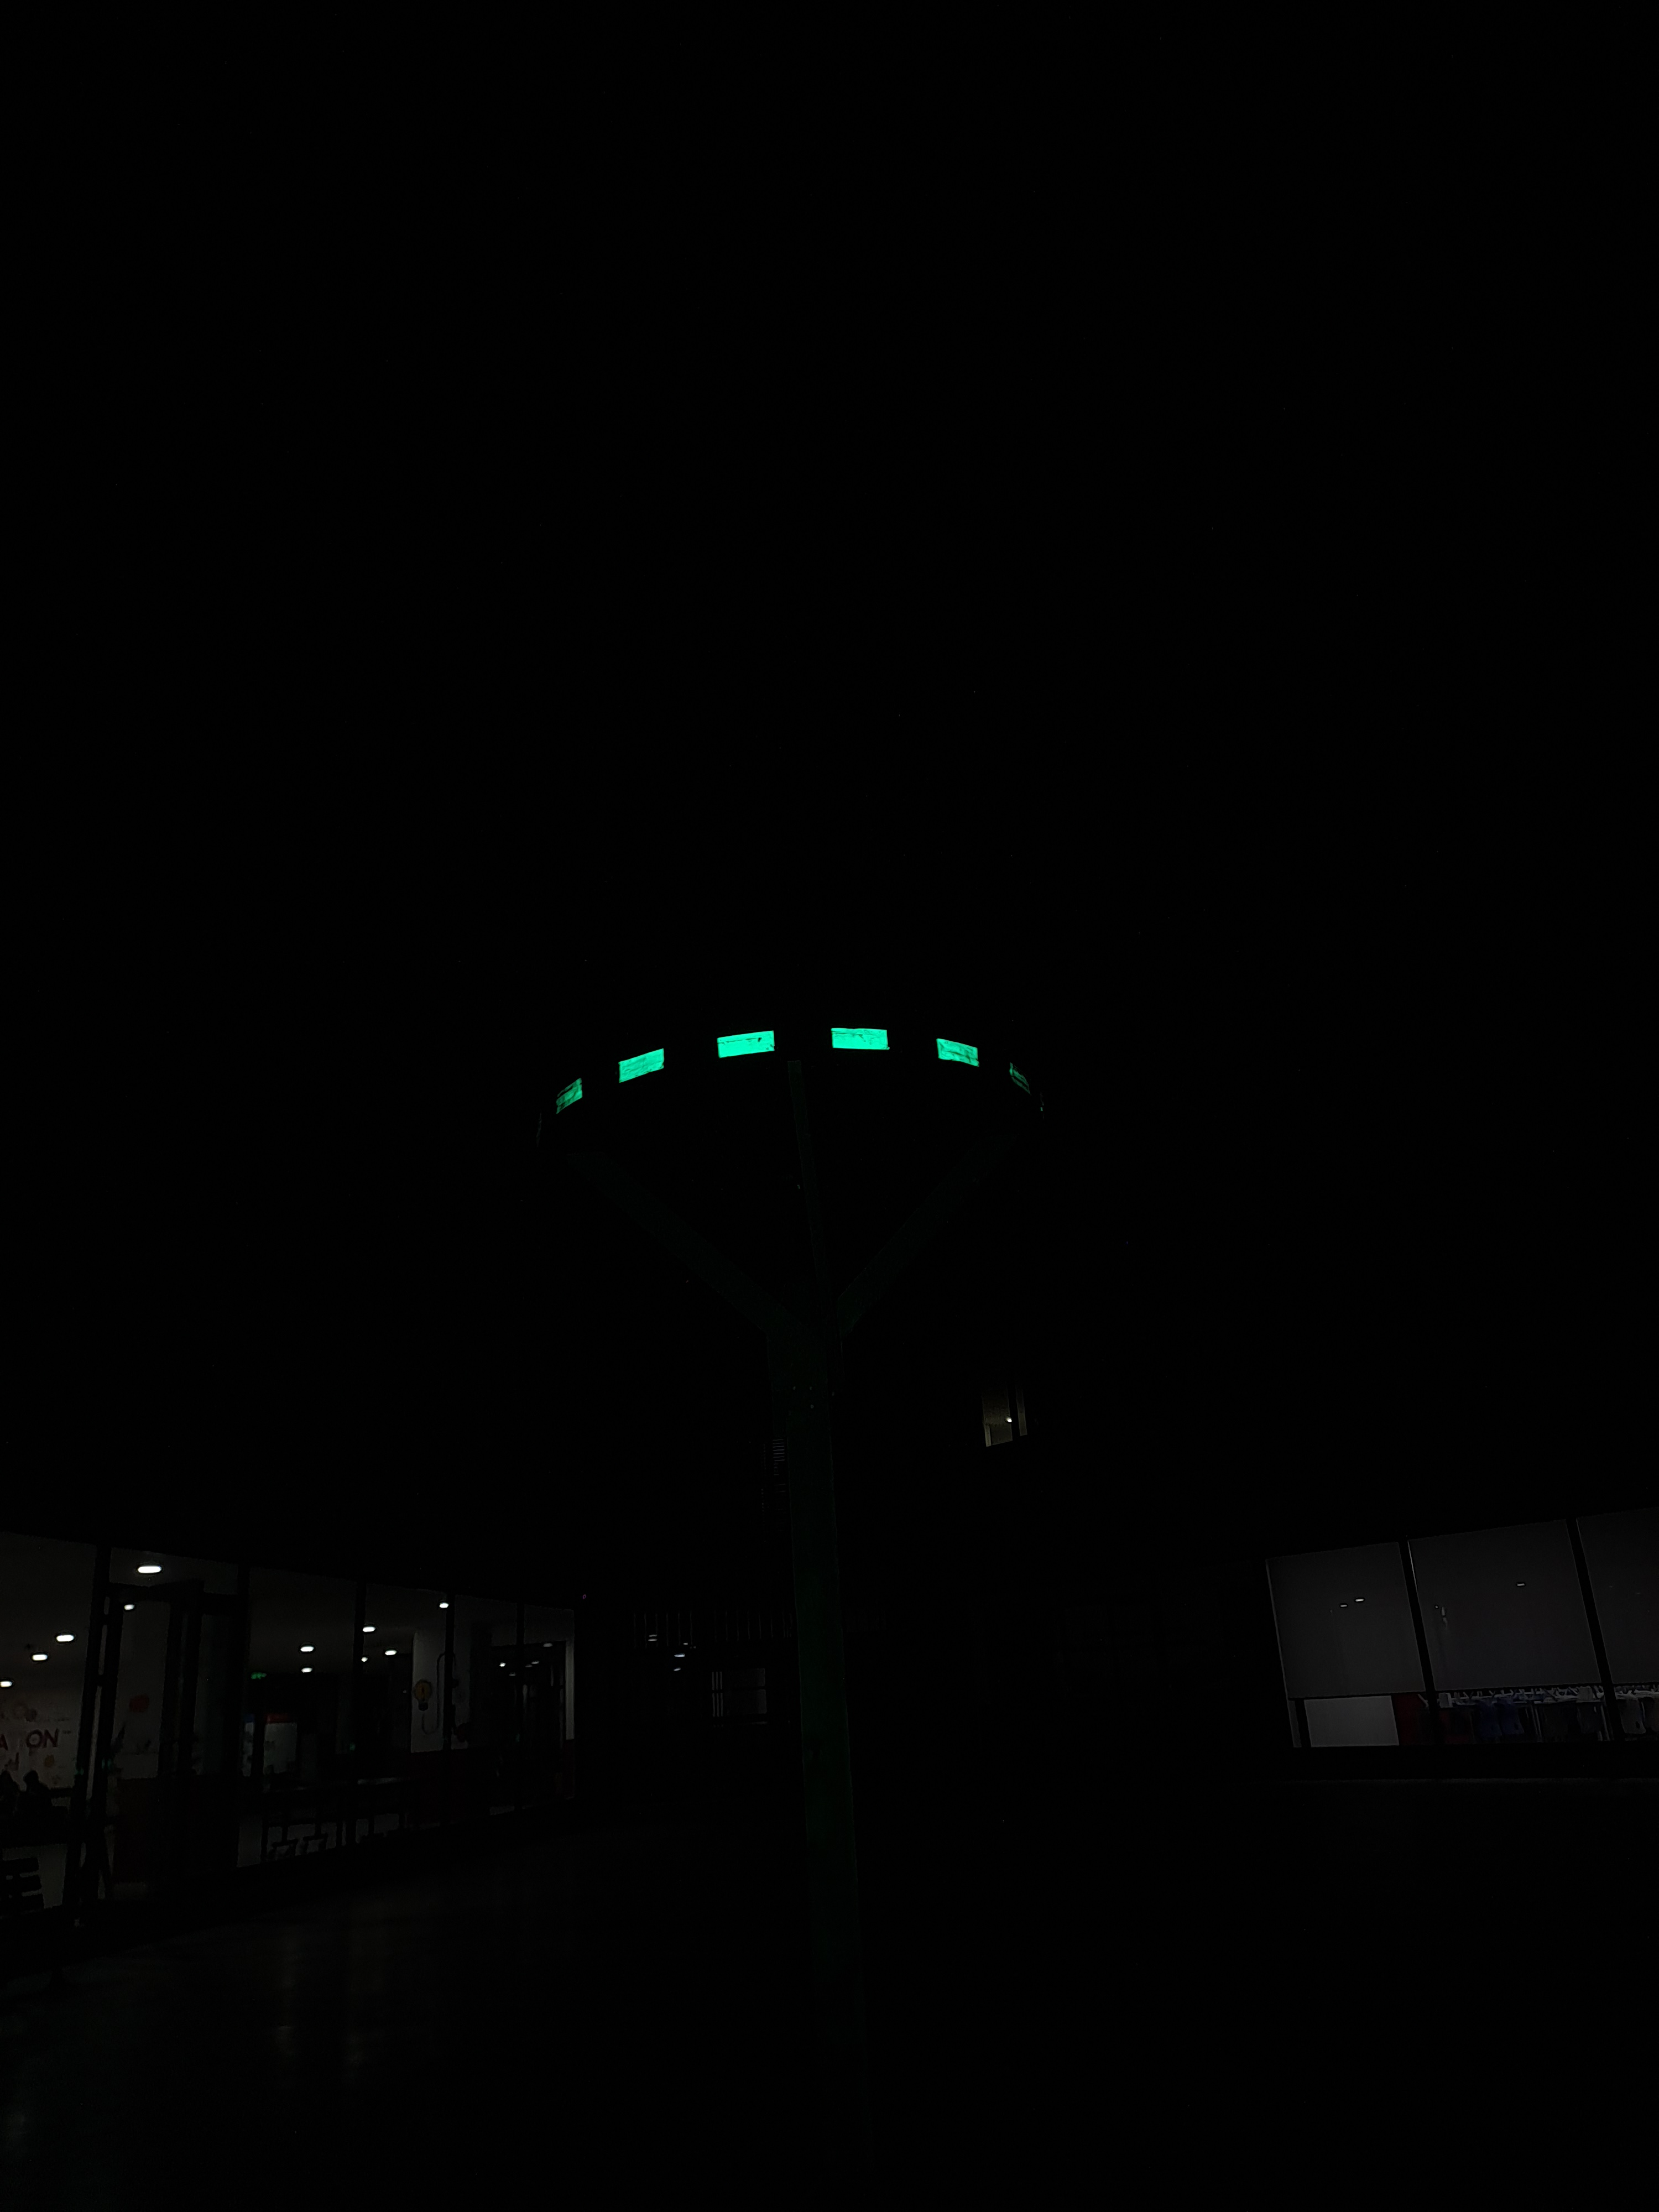hoop: (547, 1021, 985, 1125)
